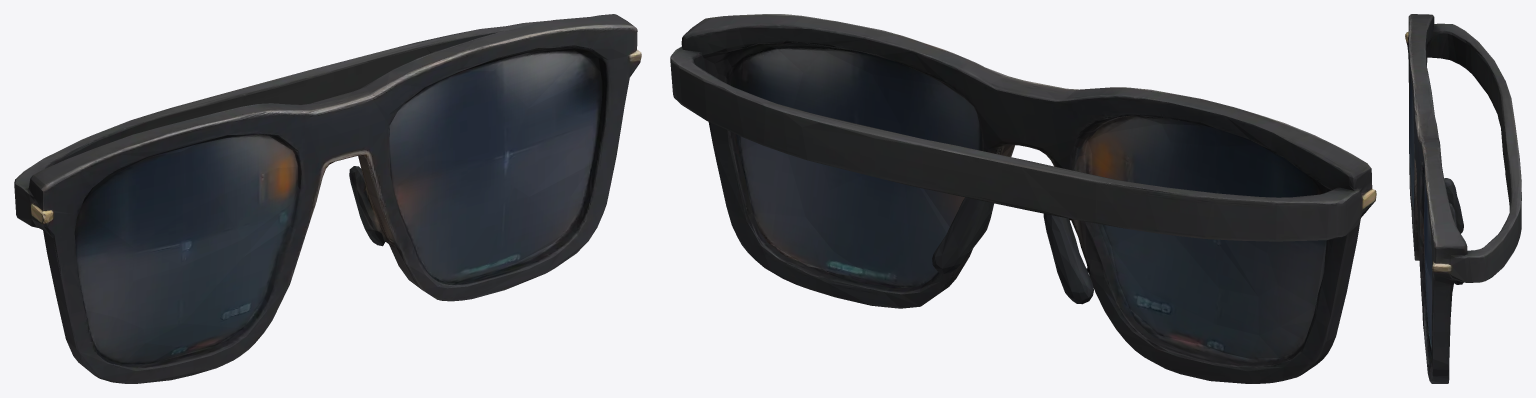
File: black_glasses2.glb
The picture shows the model from 3 angles, left to right: view 1: azimuth 30°, elevation 25°; view 2: azimuth 150°, elevation 25°; view 3: azimuth 270°, elevation 25°; orthographic projection. The views are drawn at different scales.
Visible parts, largest first — view 1: geometry_0; view 2: geometry_0; view 3: geometry_0.
Boxes of the visible parts, <box> form: geometry_0: <box>14,14,641,383</box>; geometry_0: <box>670,14,1376,383</box>; geometry_0: <box>1405,14,1521,383</box>.
Size of the model in its own units: 0.9999 by 0.3893 by 0.2112.
1 material, 1 textured.
